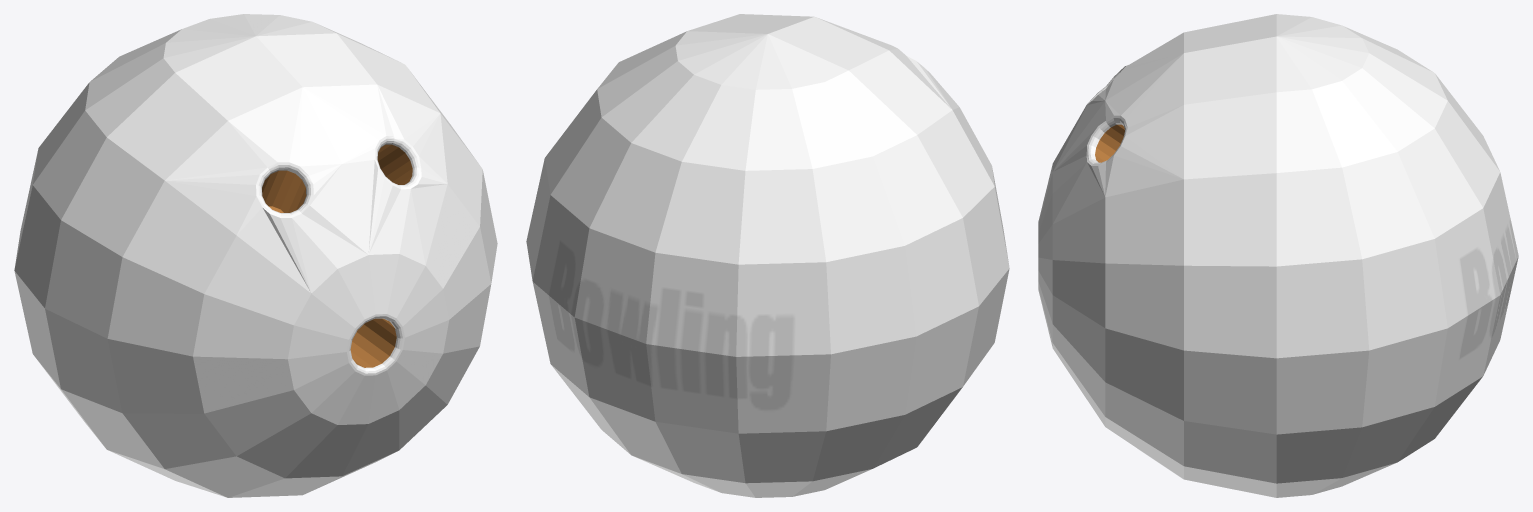
File: BowlingBall.fbx
3 renders of one model, left to right at view 1: azimuth 30°, elevation 25°; view 2: azimuth 150°, elevation 25°; view 3: azimuth 270°, elevation 25°, orthographic.
Parts seen in each view (by area): view 1: Mesh; view 2: Mesh; view 3: Mesh.
Part boxes in pixels (<box>): Mesh: <box>14,14,497,497</box>; Mesh: <box>526,14,1009,497</box>; Mesh: <box>1038,14,1518,497</box>.
Bounding box in the file's own units: 21.6 × 21.6 × 21.43.
Materials: 1 (1 with a texture image).
